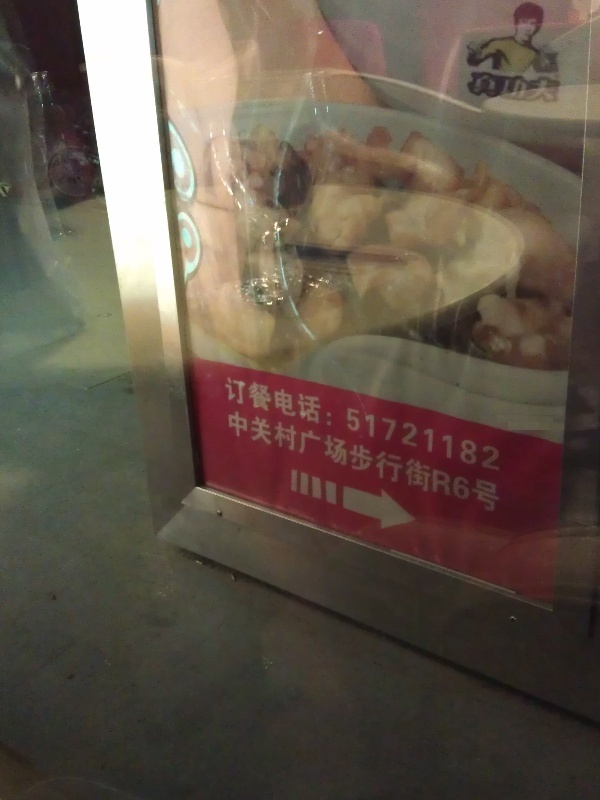text: (241, 407, 256, 514), (257, 407, 272, 514), (273, 407, 288, 514), (289, 407, 304, 514), (305, 407, 320, 514), (321, 407, 336, 514), (337, 407, 352, 514), (353, 407, 368, 514), (369, 407, 384, 514), (385, 407, 400, 514), (401, 407, 416, 514), (417, 407, 432, 514), (433, 407, 448, 514), (449, 407, 464, 514), (465, 407, 480, 514), (481, 407, 496, 514), (225, 374, 240, 473), (241, 374, 256, 473), (257, 374, 272, 473), (273, 374, 288, 473), (289, 374, 304, 473), (305, 374, 320, 473), (321, 374, 336, 473), (337, 374, 352, 473), (353, 374, 368, 473), (369, 374, 384, 473), (385, 374, 400, 473), (401, 374, 416, 473), (417, 374, 432, 473), (433, 374, 448, 473), (449, 374, 464, 473), (465, 374, 480, 473), (481, 374, 496, 473), (227, 407, 240, 514), (481, 70, 496, 104), (497, 70, 512, 104), (513, 70, 528, 104), (529, 70, 544, 104), (545, 70, 560, 104), (497, 374, 502, 473), (497, 407, 501, 514), (468, 70, 480, 104)
